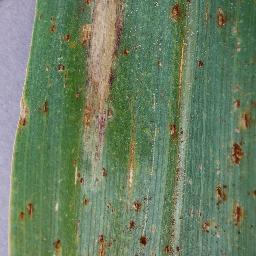Corn_Blight: (77, 0, 124, 126), (152, 151, 198, 242), (170, 24, 192, 118), (125, 10, 139, 89), (82, 126, 106, 166), (127, 122, 138, 196), (233, 22, 244, 93), (234, 98, 256, 130), (229, 137, 248, 167), (16, 198, 36, 226), (212, 183, 233, 207), (126, 199, 142, 230), (17, 93, 30, 129), (95, 230, 112, 256), (167, 0, 186, 23), (233, 200, 248, 223), (201, 218, 220, 235), (71, 158, 82, 187), (214, 5, 229, 26), (50, 237, 66, 256), (167, 121, 184, 138), (163, 244, 184, 256), (40, 97, 50, 115), (100, 165, 111, 181), (137, 236, 150, 247), (55, 61, 67, 72), (199, 58, 207, 74), (64, 31, 72, 47), (250, 187, 256, 207), (50, 14, 55, 34), (82, 196, 92, 204)
